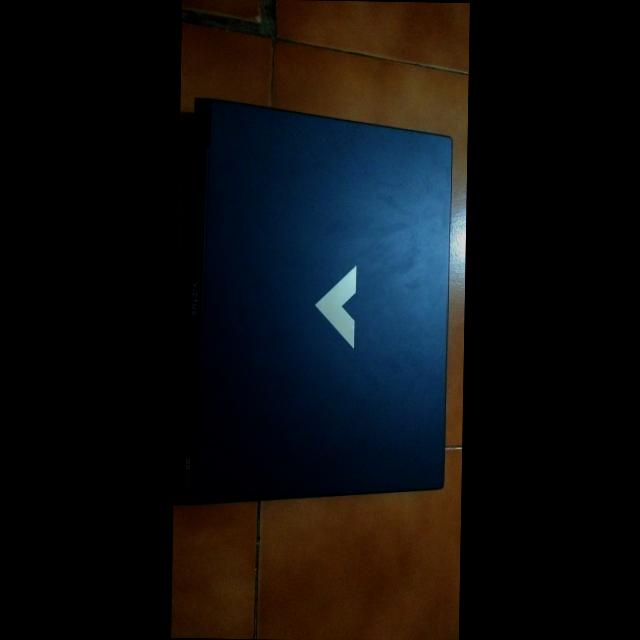laptop: (182, 84, 468, 522)
